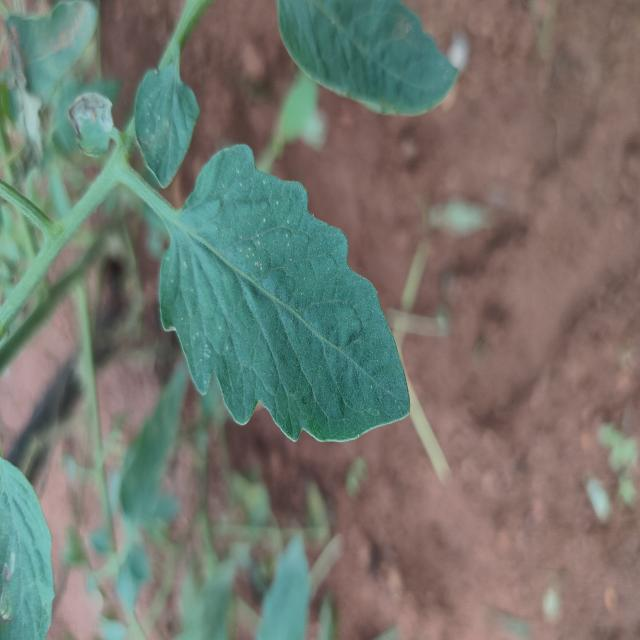tomato_healthy: (159, 144, 409, 440), (278, 0, 457, 114), (0, 457, 53, 640), (134, 42, 199, 186)
